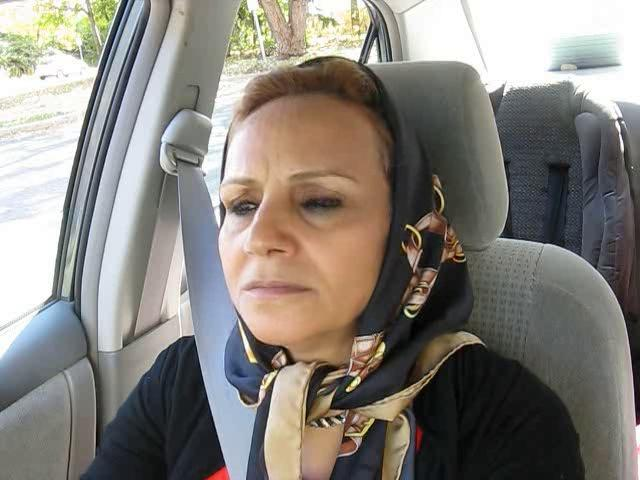close_eyeL: (220, 187, 268, 229)
close_eyeR: (283, 182, 363, 231)
no_yawn: (224, 266, 326, 312)
